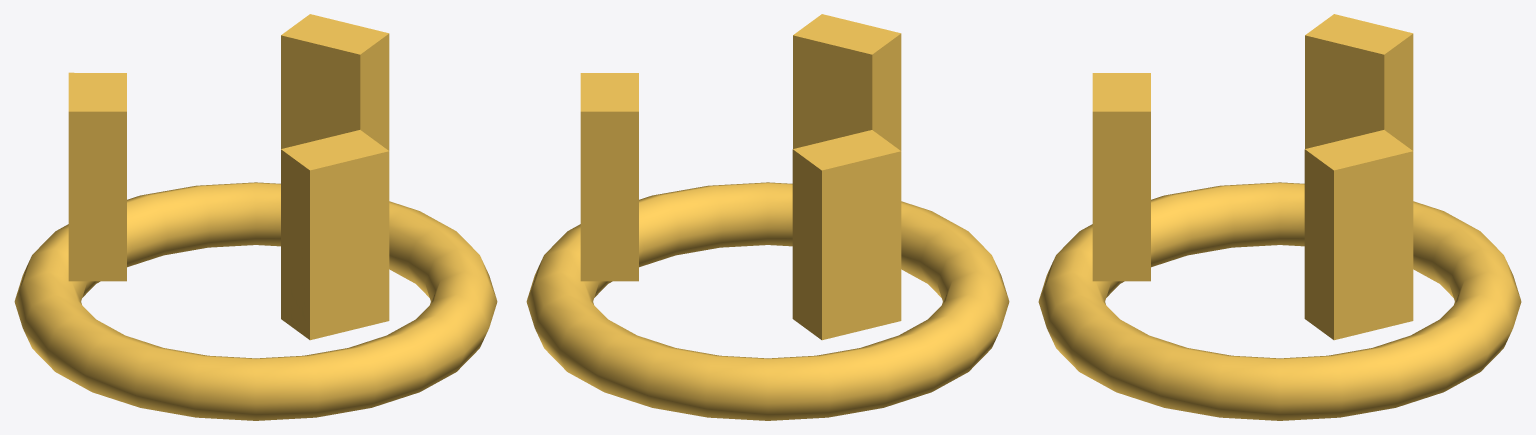
File: powerslips.glb
3 views of the same model, side by side, from view 1: azimuth 30°, elevation 25°; view 2: azimuth 150°, elevation 25°; view 3: azimuth 270°, elevation 25° (orthographic).
Bounding box in the file's own units: 1.16 × 0.635 × 1.16.
